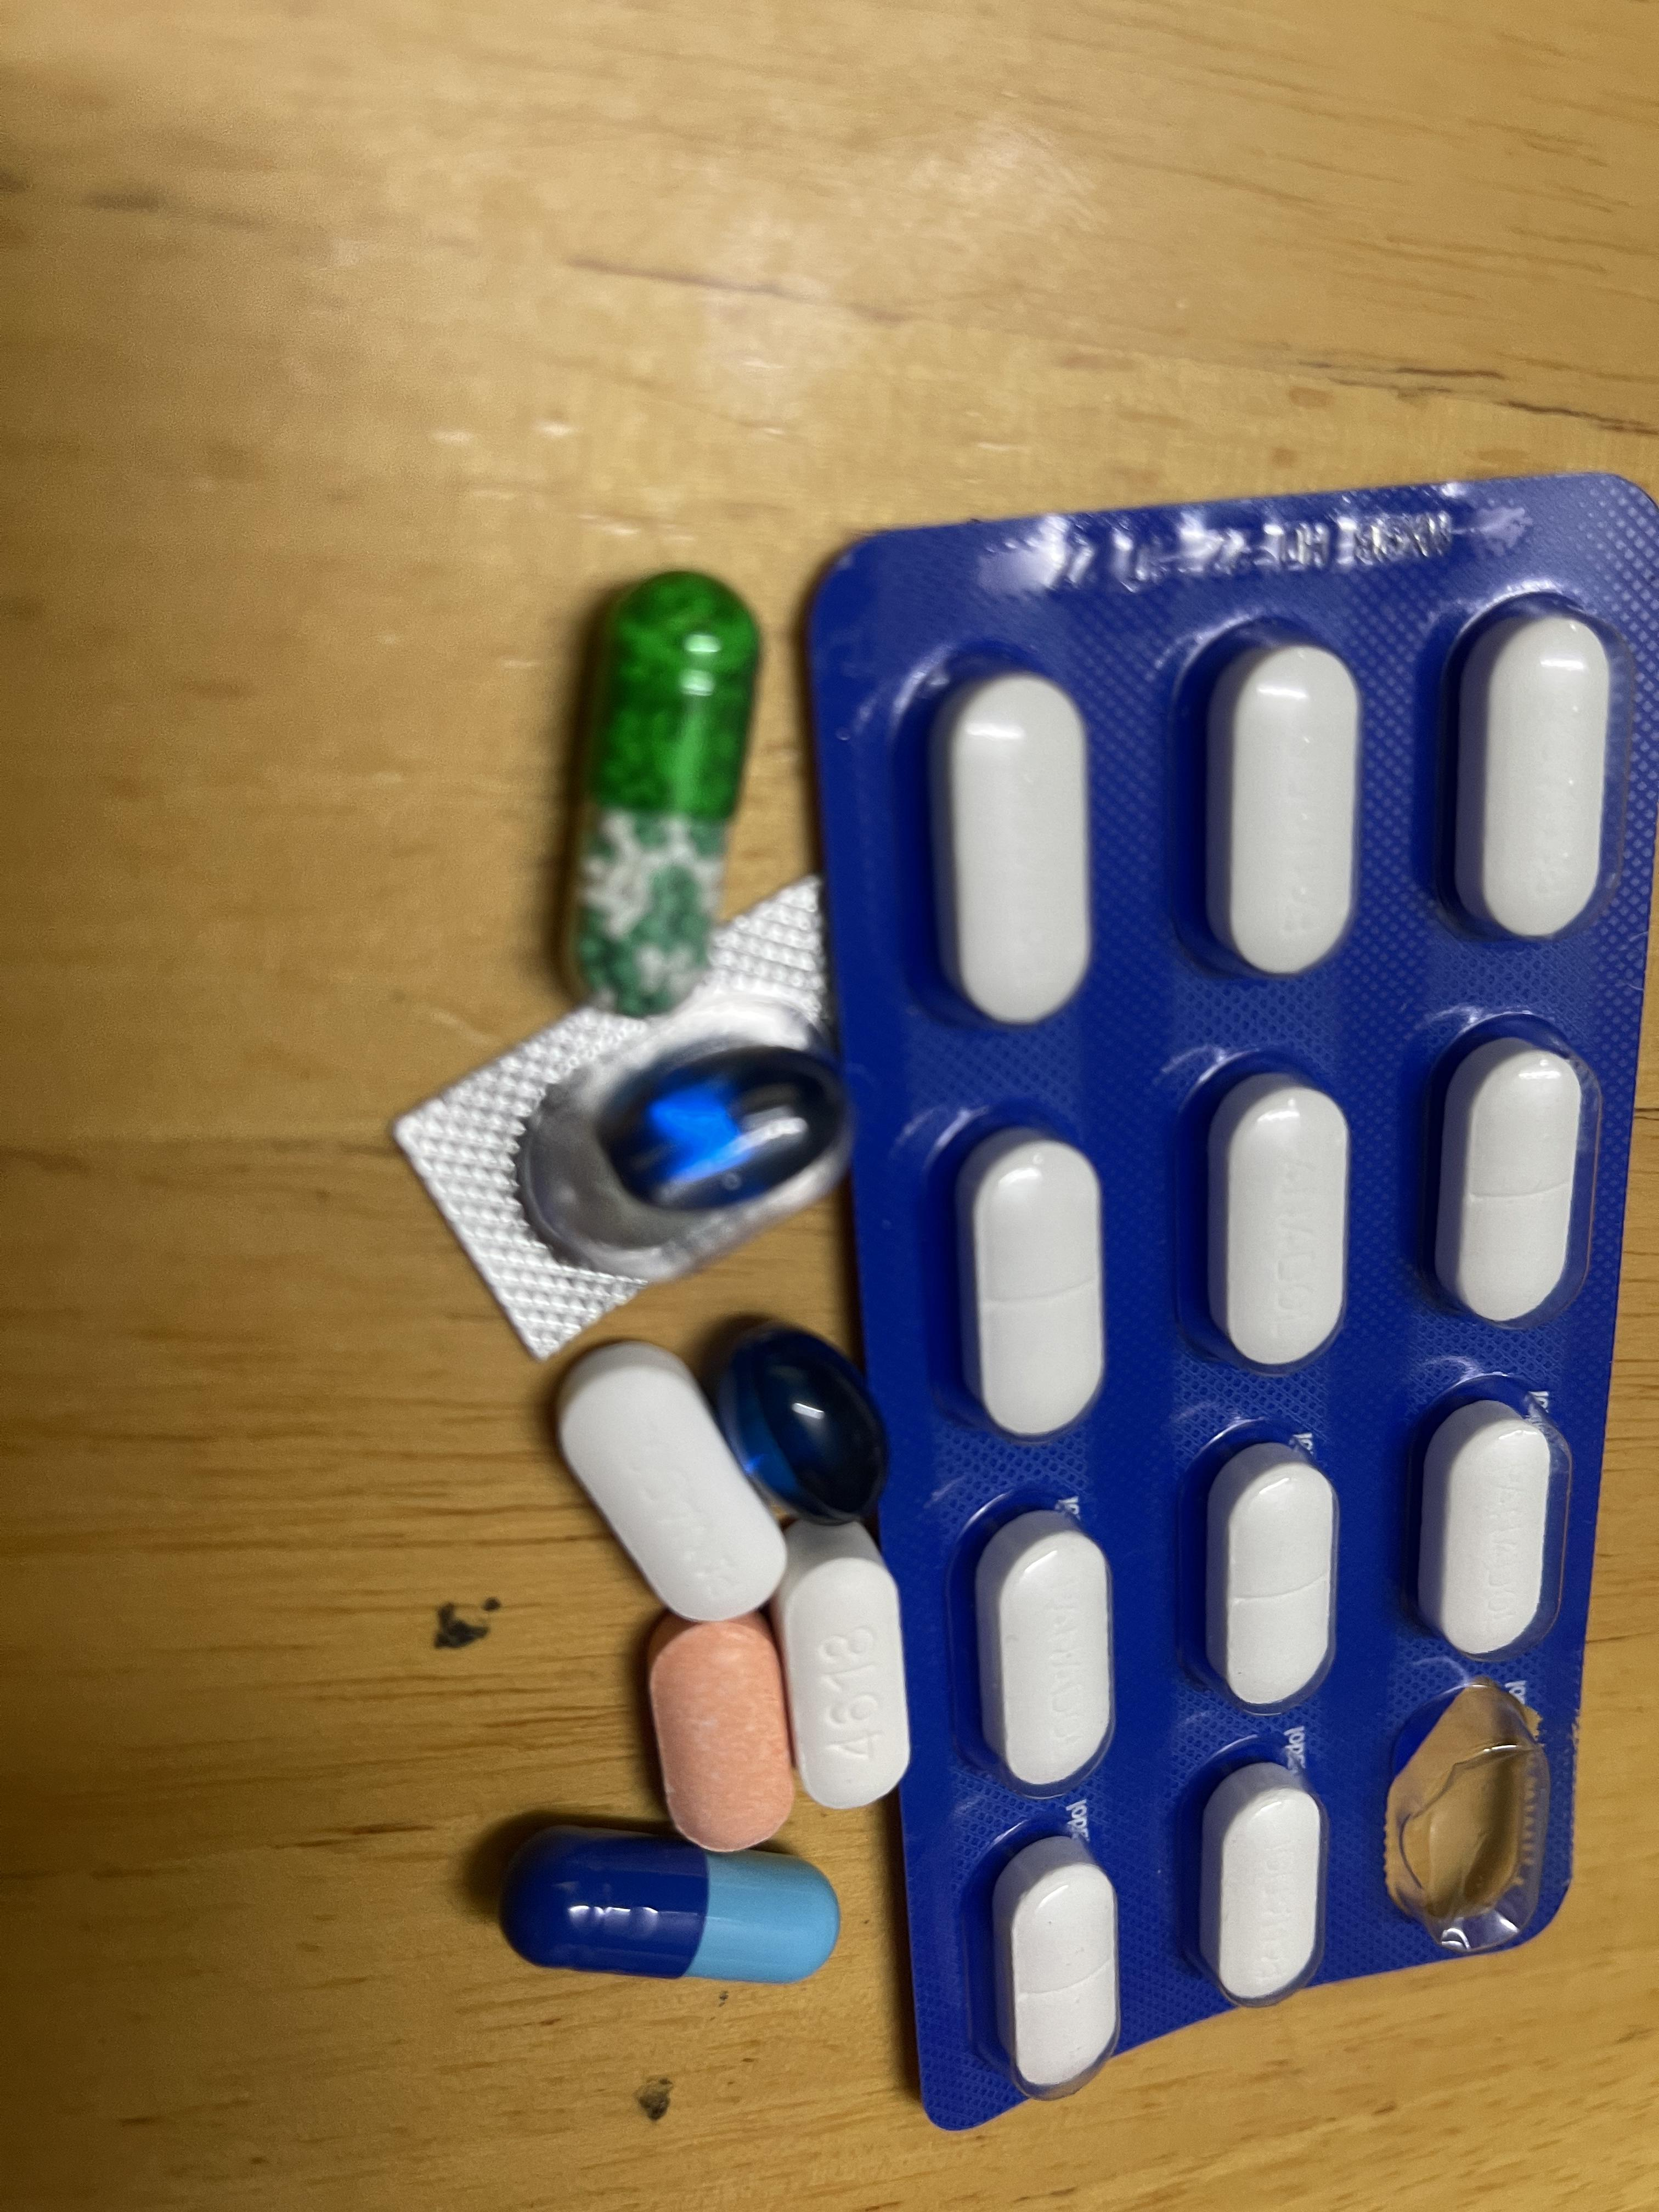Lincomyxin_500mg: (713, 1327, 892, 1534), (606, 1057, 831, 1207)
Loratadine_10mg: (648, 1618, 795, 1846)
Paracetamol_350mg: (931, 669, 1100, 1028), (561, 1353, 775, 1618), (1455, 608, 1619, 948), (1204, 639, 1364, 982), (955, 1130, 1107, 1435), (1204, 1078, 1354, 1376), (1434, 1045, 1588, 1329), (976, 1510, 1121, 1792), (1417, 1399, 1560, 1663), (1204, 1444, 1338, 1717), (992, 1838, 1124, 2097), (1199, 1764, 1326, 2012)
Paracetamol_500mg: (781, 1550, 908, 1806)
Paracetamol_650mg: (582, 577, 751, 984)
pill: (516, 1838, 836, 1982)
